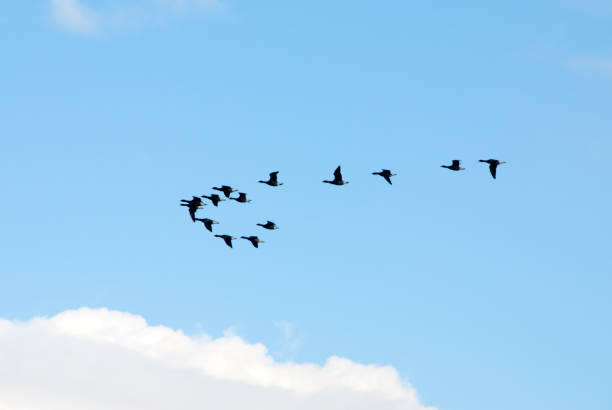goose: (477, 156, 509, 181), (319, 164, 352, 188), (369, 166, 399, 187), (256, 168, 286, 189), (440, 157, 468, 175), (193, 216, 218, 234), (238, 234, 265, 250), (213, 233, 237, 250), (211, 184, 237, 198), (199, 192, 224, 206), (178, 202, 203, 215), (228, 190, 251, 204), (254, 219, 280, 230), (178, 195, 205, 204)
